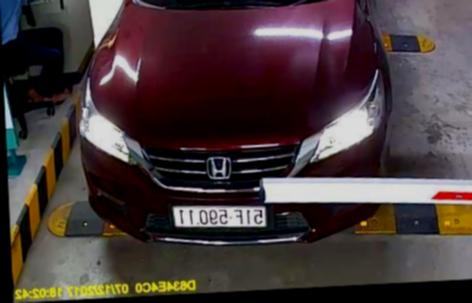License_Plate: (172, 203, 268, 233)
